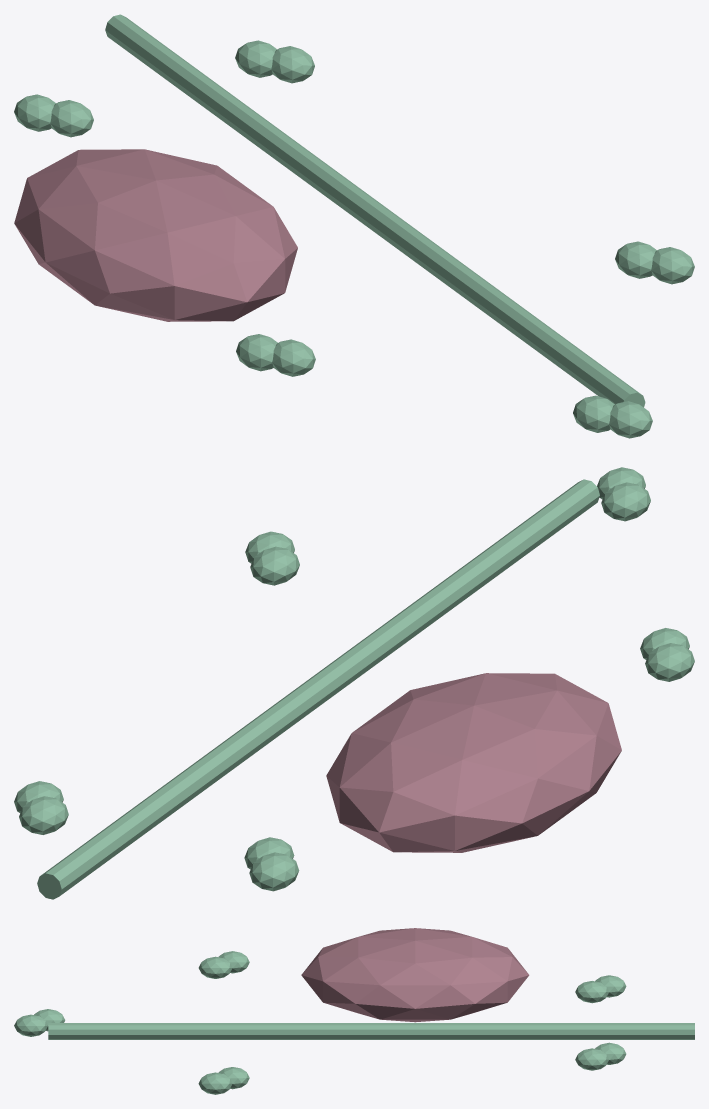
Rendered from lymphatic-g3-low.glb.
The picture shows the model from 3 angles, top to bottom: view 1: azimuth 30°, elevation 25°; view 2: azimuth 150°, elevation 25°; view 3: azimuth 270°, elevation 25°; orthographic projection. The views are drawn at different scales.
Visible parts, largest first — view 1: spleen, thoracic_duct_proxy, axillary_left_node_2, inguinal_right_node_2, axillary_right_node_2, inguinal_left_node_2, cervical_node_2, inguinal_left_node_1, axillary_right_node_1, cervical_node_1, axillary_left_node_1, inguinal_right_node_1; view 2: spleen, thoracic_duct_proxy, inguinal_left_node_1, inguinal_right_node_1, cervical_node_1, axillary_left_node_1, axillary_right_node_1, inguinal_left_node_2, axillary_left_node_2, inguinal_right_node_2, axillary_right_node_2, cervical_node_2; view 3: spleen, thoracic_duct_proxy, inguinal_right_node_2, axillary_left_node_2, axillary_right_node_2, cervical_node_2, inguinal_left_node_2, inguinal_left_node_1, axillary_left_node_1, inguinal_right_node_1, axillary_right_node_1, cervical_node_1.
Part boxes in pixels (left/top/right/bottom): spleen: left=14, top=149, right=297, bottom=321; thoracic_duct_proxy: left=105, top=14, right=645, bottom=407; axillary_left_node_2: left=272, top=339, right=315, bottom=376; inguinal_right_node_2: left=271, top=46, right=314, bottom=83; axillary_right_node_2: left=651, top=247, right=694, bottom=284; inguinal_left_node_2: left=50, top=100, right=93, bottom=137; cervical_node_2: left=609, top=401, right=652, bottom=438; inguinal_left_node_1: left=14, top=94, right=55, bottom=131; axillary_right_node_1: left=615, top=241, right=656, bottom=278; cervical_node_1: left=573, top=395, right=614, bottom=432; axillary_left_node_1: left=236, top=334, right=277, bottom=371; inguinal_right_node_1: left=235, top=40, right=276, bottom=77; spleen: left=326, top=673, right=621, bottom=852; thoracic_duct_proxy: left=37, top=479, right=599, bottom=899; inguinal_left_node_1: left=249, top=852, right=299, bottom=891; inguinal_right_node_1: left=19, top=796, right=68, bottom=834; cervical_node_1: left=601, top=482, right=650, bottom=521; axillary_left_node_1: left=645, top=643, right=694, bottom=681; axillary_right_node_1: left=250, top=546, right=299, bottom=585; inguinal_left_node_2: left=244, top=837, right=294, bottom=869; axillary_left_node_2: left=640, top=628, right=689, bottom=659; inguinal_right_node_2: left=14, top=781, right=63, bottom=812; axillary_right_node_2: left=245, top=531, right=294, bottom=563; cervical_node_2: left=597, top=467, right=645, bottom=499; spleen: left=301, top=928, right=529, bottom=1022; thoracic_duct_proxy: left=48, top=1023, right=694, bottom=1039; inguinal_right_node_2: left=575, top=1048, right=608, bottom=1070; axillary_left_node_2: left=198, top=956, right=232, bottom=978; axillary_right_node_2: left=198, top=1072, right=232, bottom=1094; cervical_node_2: left=14, top=1014, right=47, bottom=1036; inguinal_left_node_2: left=575, top=981, right=608, bottom=1003; inguinal_left_node_1: left=595, top=975, right=626, bottom=997; axillary_left_node_1: left=218, top=951, right=249, bottom=973; inguinal_right_node_1: left=595, top=1042, right=626, bottom=1064; axillary_right_node_1: left=218, top=1067, right=249, bottom=1089; cervical_node_1: left=34, top=1009, right=65, bottom=1031.
Size of the model in its own units: 1.84 by 0.4 by 3.58.
